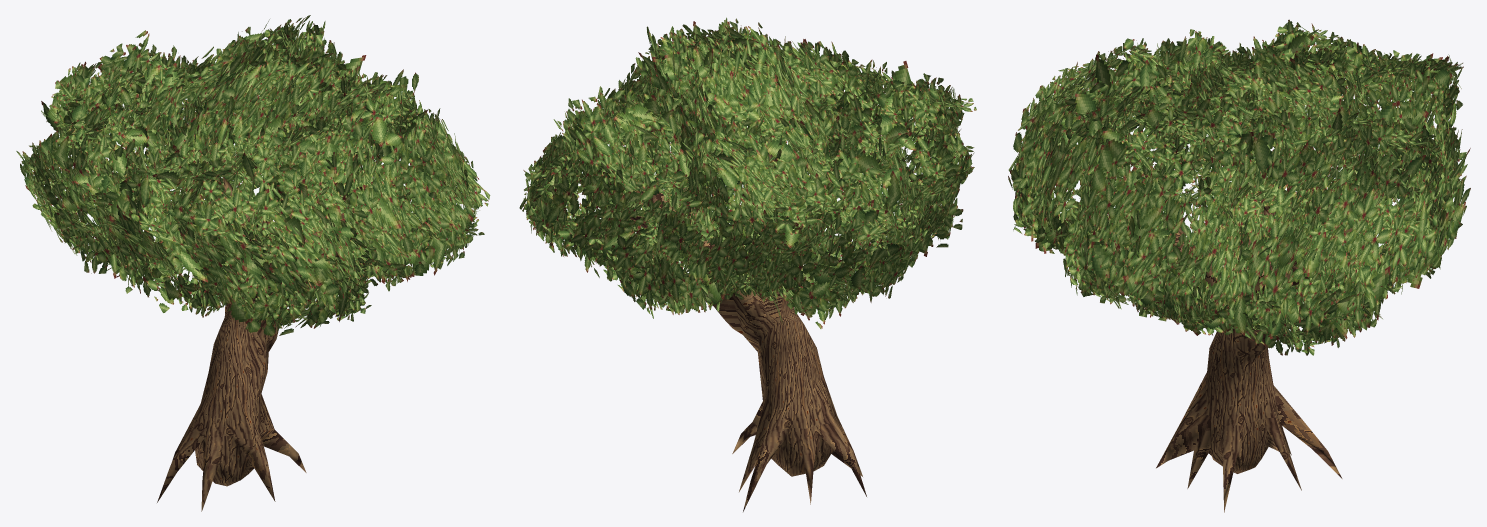
The model's file is macieira_torta_LOD_D.glb.
3 views of the same model, side by side, from view 1: azimuth 30°, elevation 25°; view 2: azimuth 150°, elevation 25°; view 3: azimuth 270°, elevation 25° (orthographic). The views are drawn at different scales.
Parts seen in each view (by area): view 1: macieira_inclinada; view 2: macieira_inclinada; view 3: macieira_inclinada.
Boxes of the visible parts, x1,y1,x2,y2 form: macieira_inclinada: [16, 15, 490, 511]; macieira_inclinada: [519, 17, 976, 511]; macieira_inclinada: [1008, 19, 1470, 512].
Bounding box in the file's own units: 6.05 × 6.35 × 5.79.
Materials: 2 (2 with a texture image).
